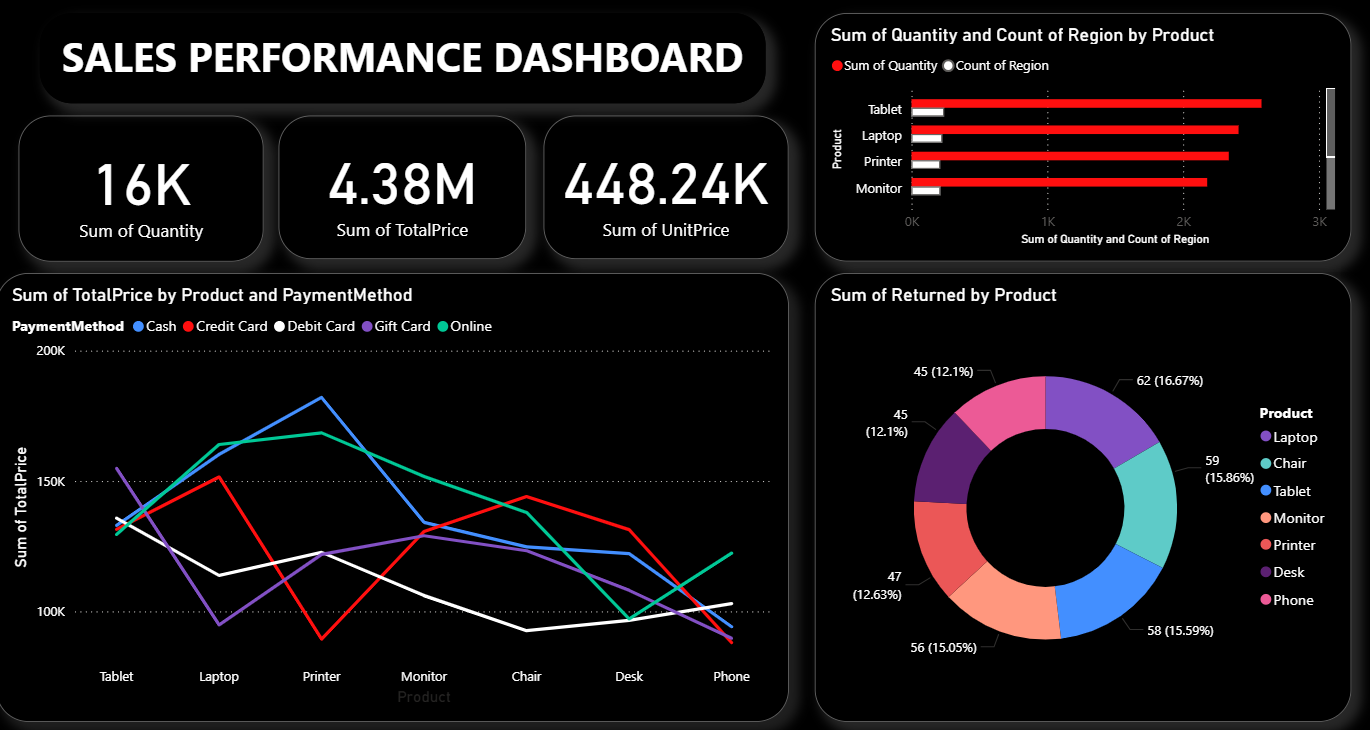

The page's visual inventory and layout, read from the dashboard file:
{"tool":"powerbi","page":{"name":"Page 1","canvas":[1280,720],"ordinal":0},"visuals":[{"type":"clusteredBarChart","fields":{"Category":["Sheet1.Product"],"Y":["Sum(Sheet1.Quantity)","CountNonNull(Sheet1.Region)"]},"box":[761.6,51.2,417.4,298.8],"z":0},{"type":"card","fields":{"Values":["Sum(Sheet1.Quantity)"]},"box":[16.3,120.9,227.9,136],"z":4000},{"type":"card","fields":{"Values":["Sum(Sheet1.TotalPrice)"]},"box":[259.3,120.9,230.2,133.7],"z":5000},{"type":"card","fields":{"Values":["Sum(Sheet1.UnitPrice)"]},"box":[509.3,120.9,227.9,133.7],"z":8000},{"type":"lineChart","fields":{"Category":["Sheet1.Product"],"Y":["Sum(Sheet1.TotalPrice)"],"Series":["Sheet1.PaymentMethod"]},"box":[0,280.2,694.2,407],"z":8002},{"type":"donutChart","fields":{"Category":["Sheet1.Product"],"Y":["Sum(Sheet1.Returned)"]},"box":[737.2,389.5,484.9,297.7],"z":8003}]}

Visuals, with their boxes on the page's 1280x720 design canvas (x1, y1, x2, y2). These are canvas units, not pixel positions in the 1370x730 screenshot, which may show the page scaled, cropped or inside an application window:
clusteredBarChart - Sheet1.Product x Sum(Sheet1.Quantity): bbox(762, 51, 1179, 350)
card - Sum(Sheet1.Quantity): bbox(16, 121, 244, 257)
card - Sum(Sheet1.TotalPrice): bbox(259, 121, 490, 255)
card - Sum(Sheet1.UnitPrice): bbox(509, 121, 737, 255)
lineChart - Sheet1.Product x Sum(Sheet1.TotalPrice): bbox(0, 280, 694, 687)
donutChart - Sheet1.Product x Sum(Sheet1.Returned): bbox(737, 390, 1222, 687)
